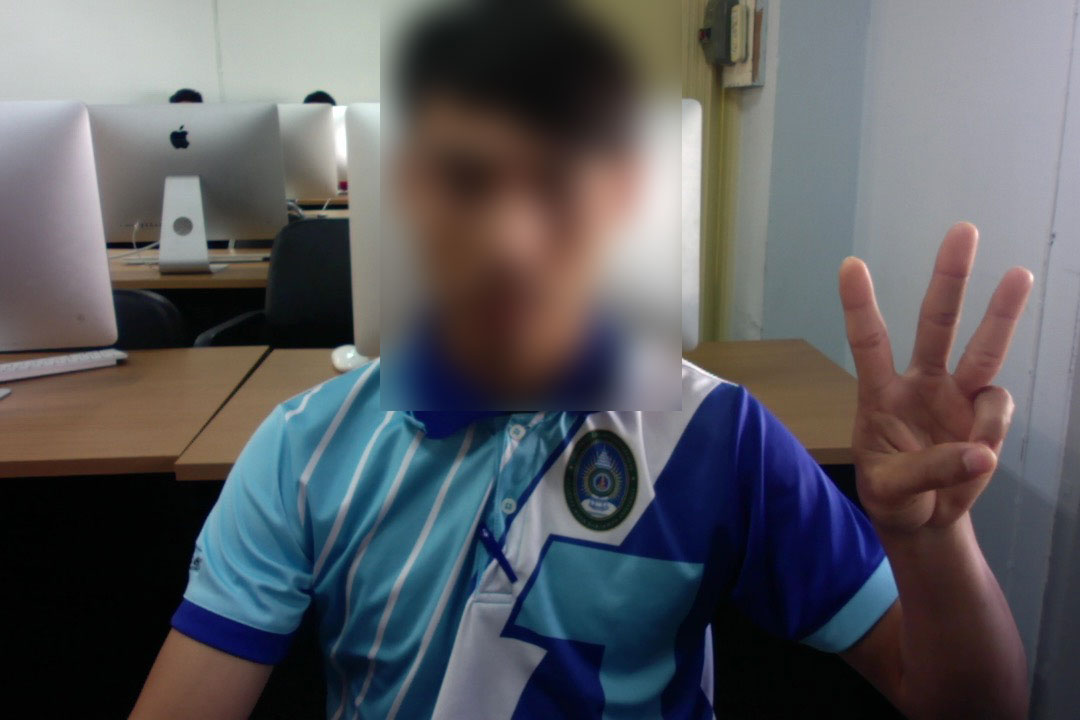wor: (820, 215, 1030, 533)
